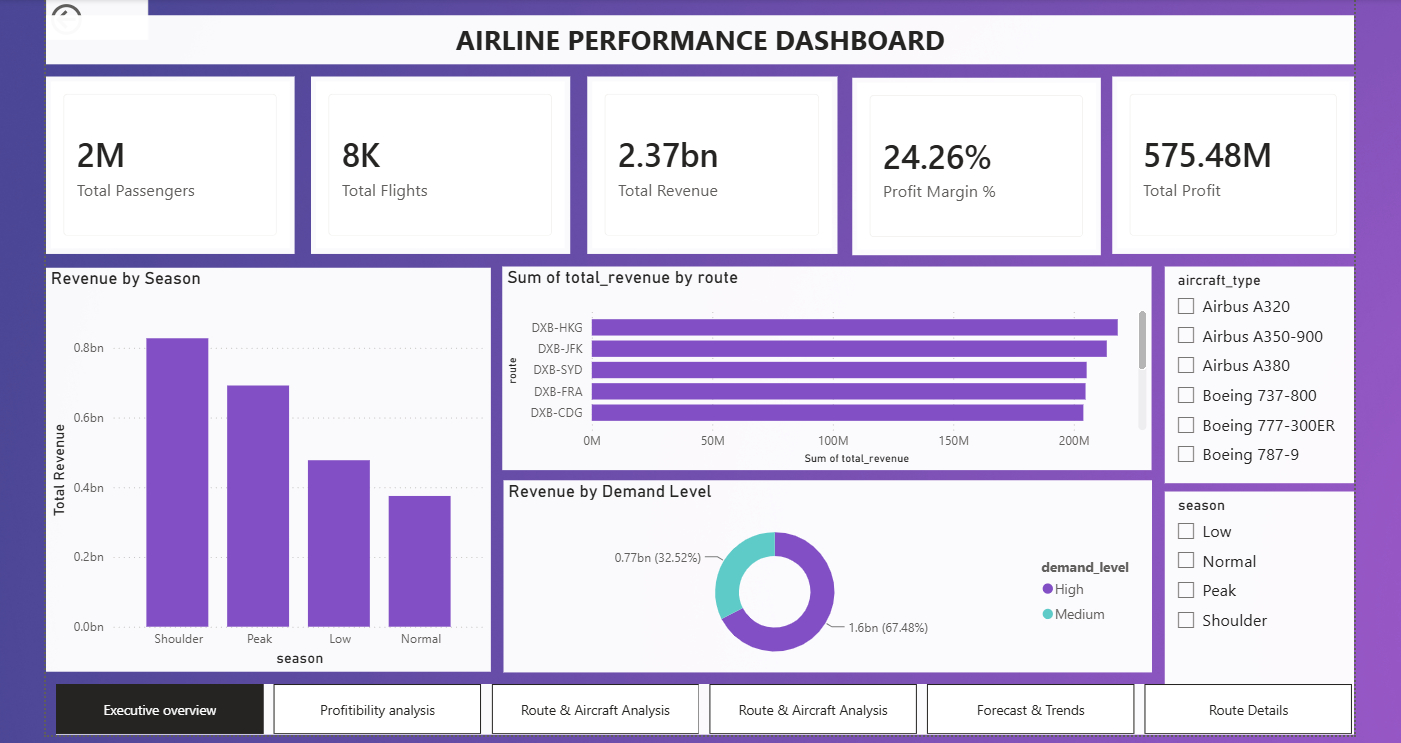

The page's visual inventory and layout, read from the dashboard file:
{"tool":"powerbi","page":{"name":"Executive overview","canvas":[1280,720],"ordinal":0},"visuals":[{"type":"cardVisual","fields":{"Data":["Airline Data.Total Passengers"]},"box":[0,75.2,243.2,173.3],"z":0},{"type":"cardVisual","fields":{"Data":["Airline Data.Total Flights"]},"box":[259.3,75.2,253.9,173.3],"z":1000},{"type":"cardVisual","fields":{"Data":["Airline Data.Total Profit"]},"box":[1042.5,75.2,237.2,173.3],"z":2000},{"type":"cardVisual","fields":{"Data":["Airline Data.Total Revenue"]},"box":[529.3,75.2,244.5,173.3],"z":3000},{"type":"actionButton","box":[0,0,100,40],"z":6000},{"type":"barChart","fields":{"Category":["Airline Data.route"],"Y":["Sum(Airline Data.total_revenue)"]},"box":[446,262,635.4,198.8],"z":7000},{"type":"clusteredColumnChart","title":"Revenue by Season","fields":{"Category":["Airline Data.season"],"Y":["Airline Data.Total Revenue"]},"box":[0,263.3,435.3,395],"z":8000},{"type":"donutChart","title":"Revenue by Demand Level","fields":{"Category":["Airline Data.demand_level"],"Y":["Airline Data.Total Revenue"]},"box":[447.4,470.2,634.1,188.1],"z":9000},{"type":"slicer","fields":{"Values":["Airline Data.season"]},"box":[1094.9,482.3,185.4,193.5],"z":10000},{"type":"cardVisual","fields":{"Data":["Airline Data.Profit Margin %"]},"box":[788.6,76.6,243.2,173.3],"z":11000},{"type":"slicer","fields":{"Values":["Airline Data.aircraft_type"]},"box":[1094.9,262,185.4,212.3],"z":12000},{"type":"pageNavigator","box":[10,670,1270.7,49.4],"z":13000},{"type":"textbox","box":[14.8,16.1,1248,47],"z":14000}]}

Visuals, with their boxes in screenshot pixels (x1, y1, x2, y2):
cardVisual - Airline Data.Total Passengers: <bbox>44, 73, 292, 250</bbox>
cardVisual - Airline Data.Total Flights: <bbox>308, 73, 567, 250</bbox>
cardVisual - Airline Data.Total Profit: <bbox>1107, 73, 1348, 250</bbox>
cardVisual - Airline Data.Total Revenue: <bbox>583, 73, 833, 250</bbox>
actionButton: <bbox>44, 0, 146, 37</bbox>
barChart - Airline Data.route x Sum(Airline Data.total_revenue): <bbox>498, 263, 1146, 466</bbox>
"Revenue by Season" clusteredColumnChart: <bbox>44, 265, 488, 667</bbox>
"Revenue by Demand Level" donutChart: <bbox>500, 476, 1146, 667</bbox>
slicer - Airline Data.season: <bbox>1160, 488, 1349, 685</bbox>
cardVisual - Airline Data.Profit Margin %: <bbox>848, 74, 1096, 251</bbox>
slicer - Airline Data.aircraft_type: <bbox>1160, 263, 1349, 480</bbox>
pageNavigator: <bbox>54, 679, 1349, 730</bbox>
textbox: <bbox>59, 13, 1331, 61</bbox>
